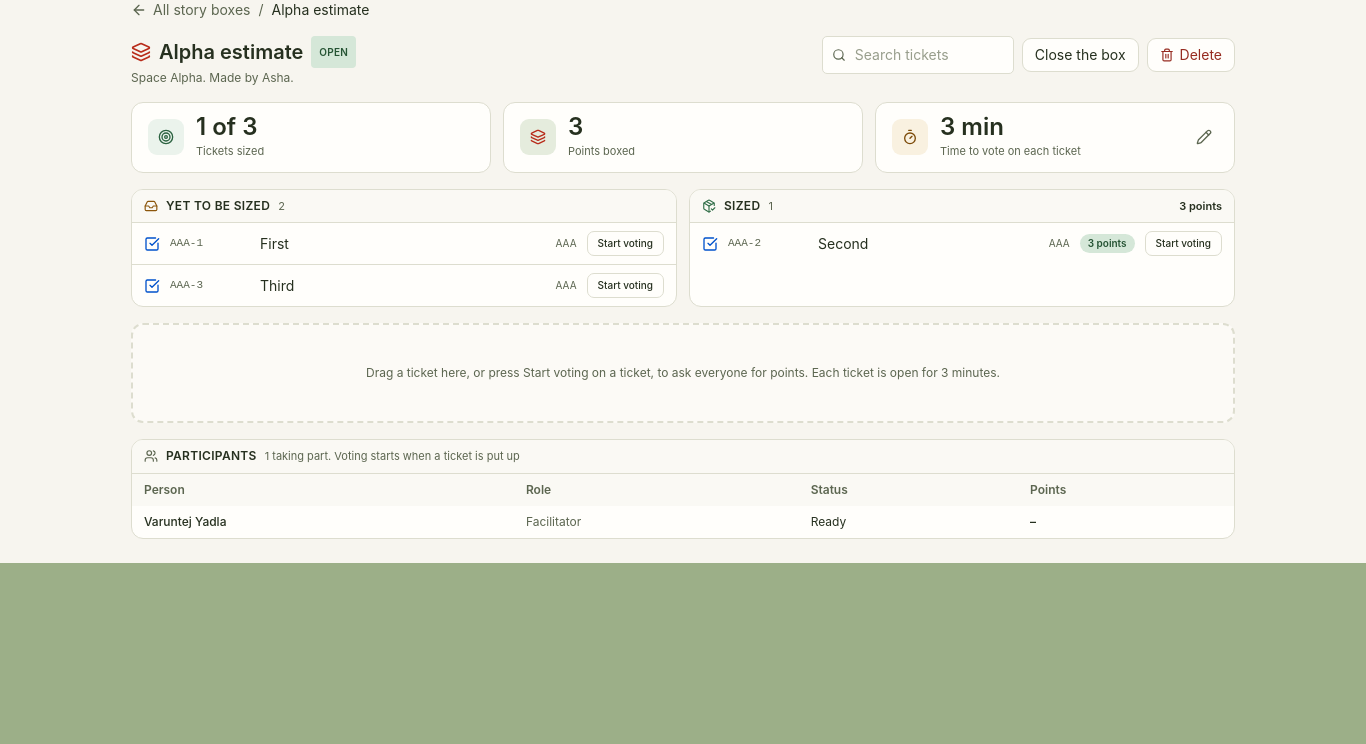
Test: who may do what › shows who is taking part and whether they voted, with the points hidden until the reveal
The image size is (1366, 744).
What coordinates should you click on to do the following:
click the button "Start voting" in the row of "AAA-1"
I would click on:
 (625, 244)
Its box is [587,231,664,256].
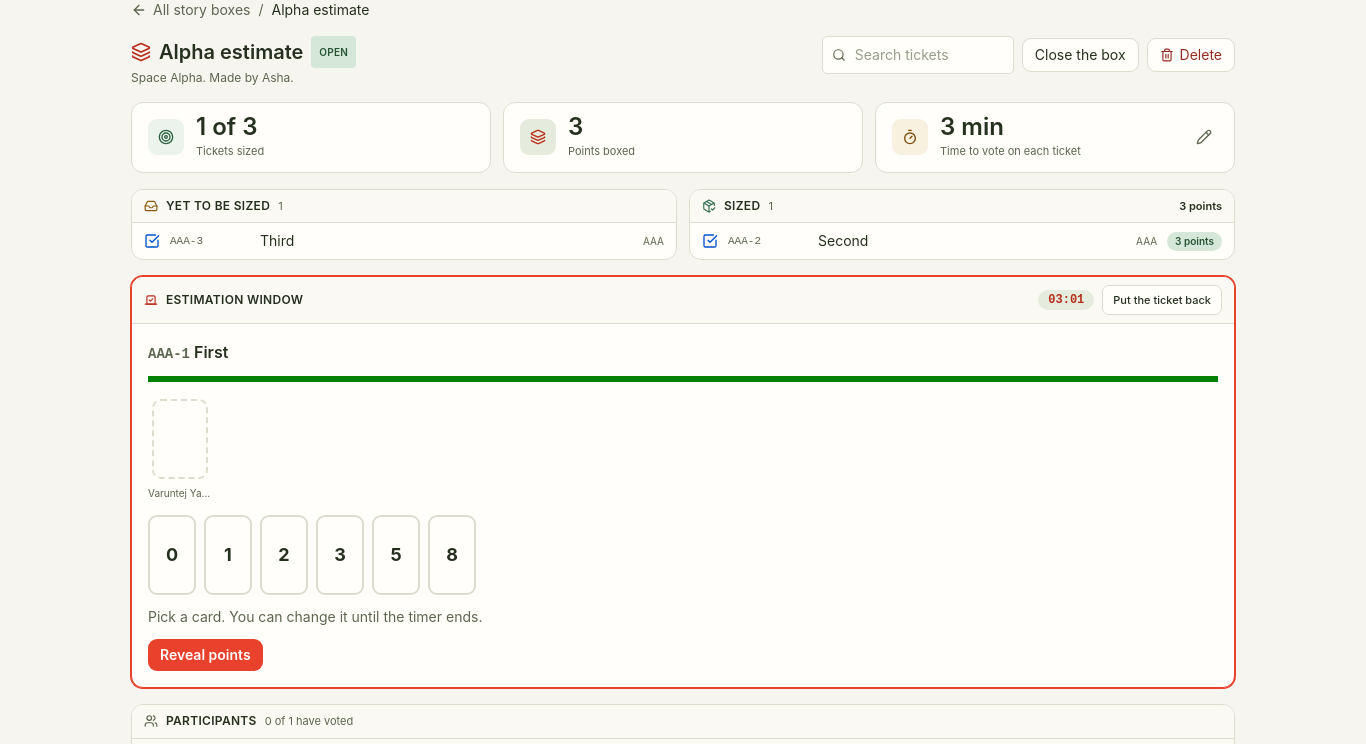
expect the element named "Participants" shows "0 of 1 have voted": met, box [265,714,353,728]
What coordinates should you click on to do the following:
click the button "3"
I would click on:
 (340, 555)
Its box is [316,515,364,595].
(page scrolled)
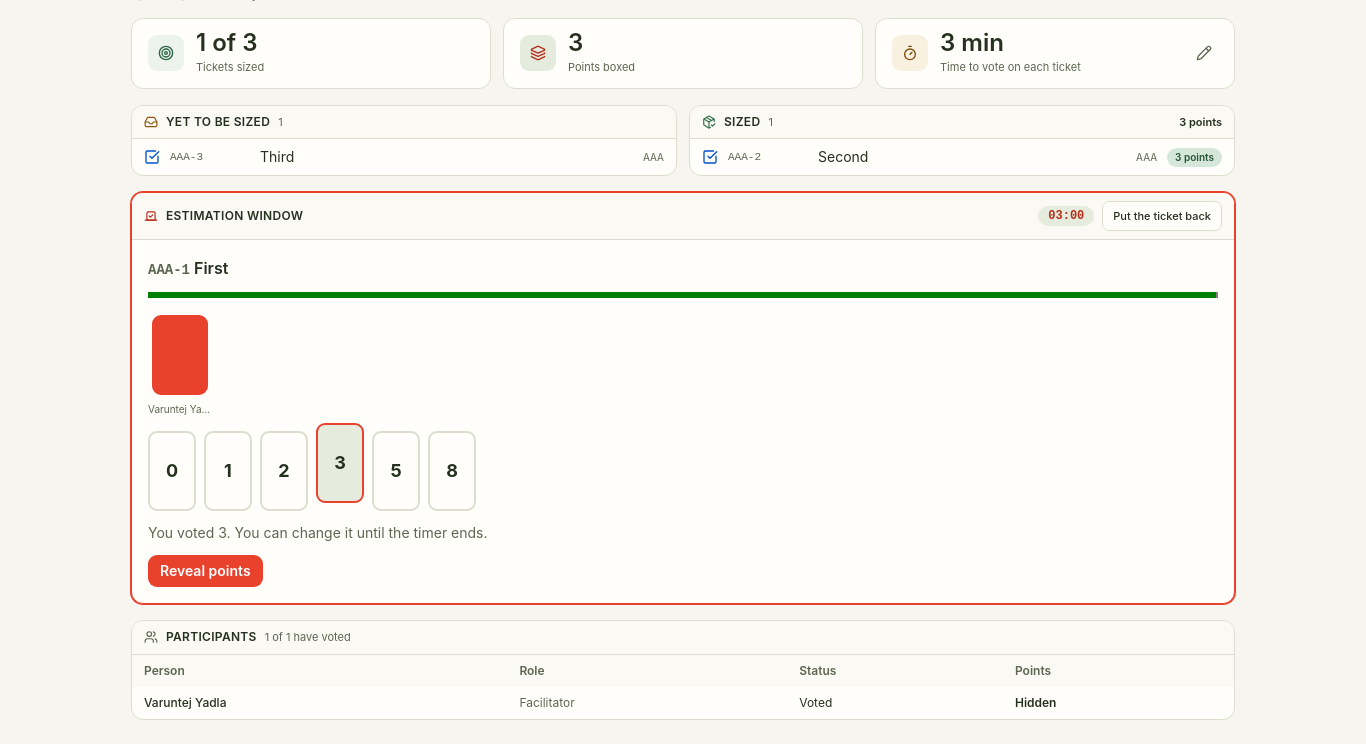
expect the element named "Participants" shows "Hidden": met, box [1015,694,1056,710]
expect the element named "Participants" shows "1 of 1 have voted": met, box [265,630,351,644]
